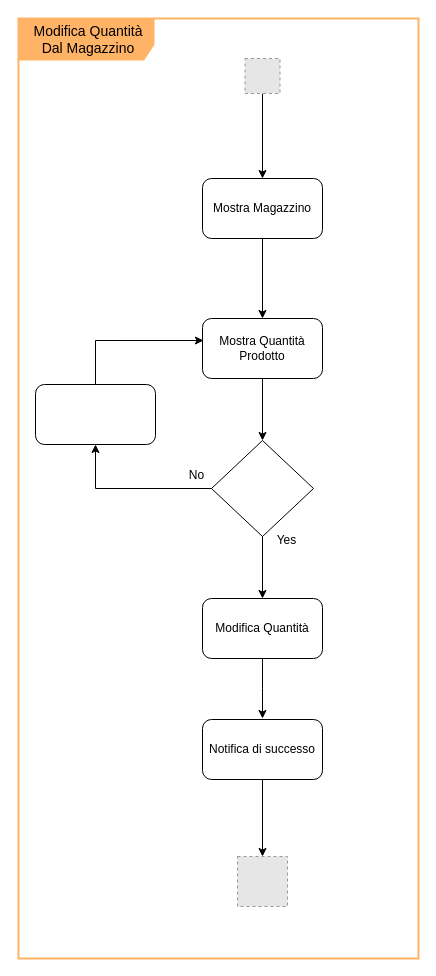
Some shapes in this 436 by 976 pixel diagram are drawn without their labels. Grey dashed boxes stand in for pictures. The shapes that lost their labels are listed below. From the top down, each one's centre as x and y in pixels, then its label:
At pixel 95 414: "Notifica dati errati".
At pixel 262 488: "La quantità è corretta?".
